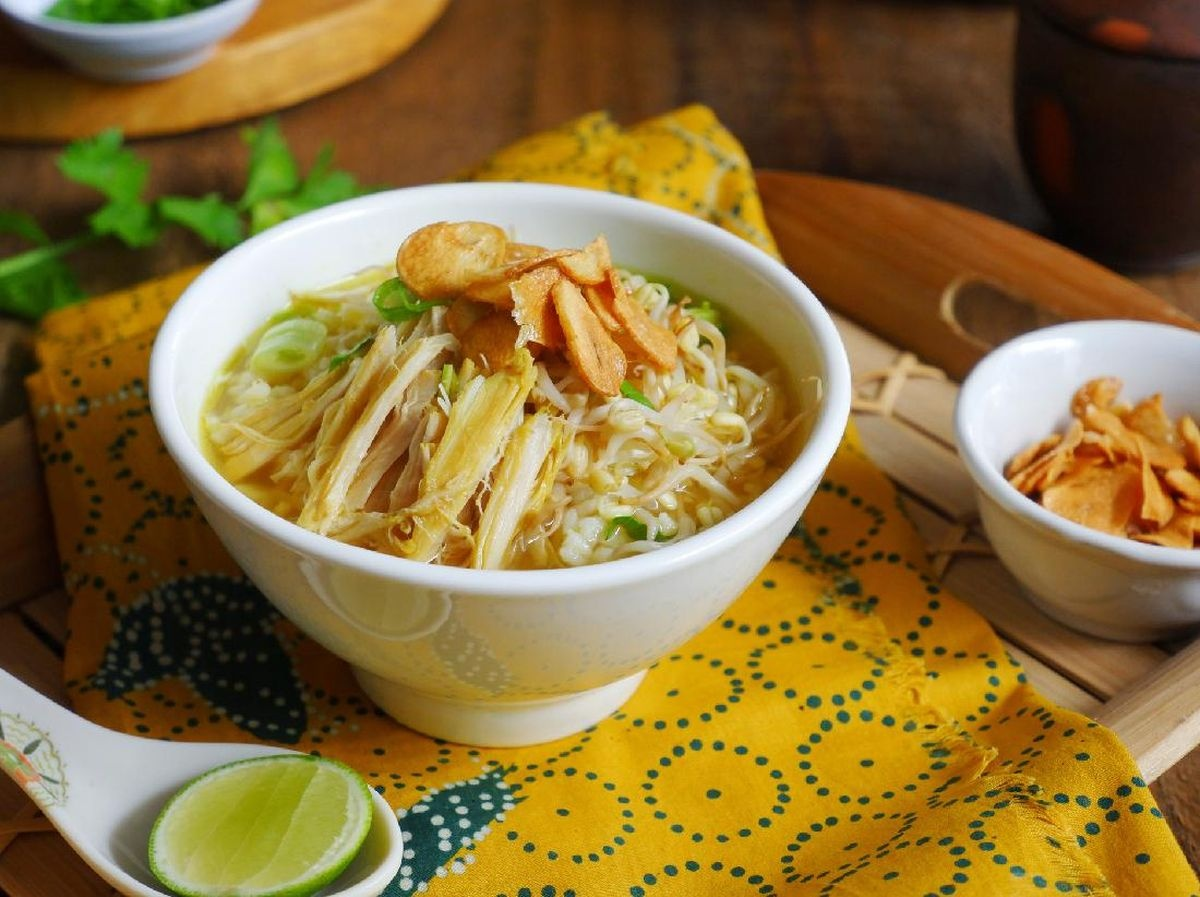soto: (183, 192, 762, 608)
